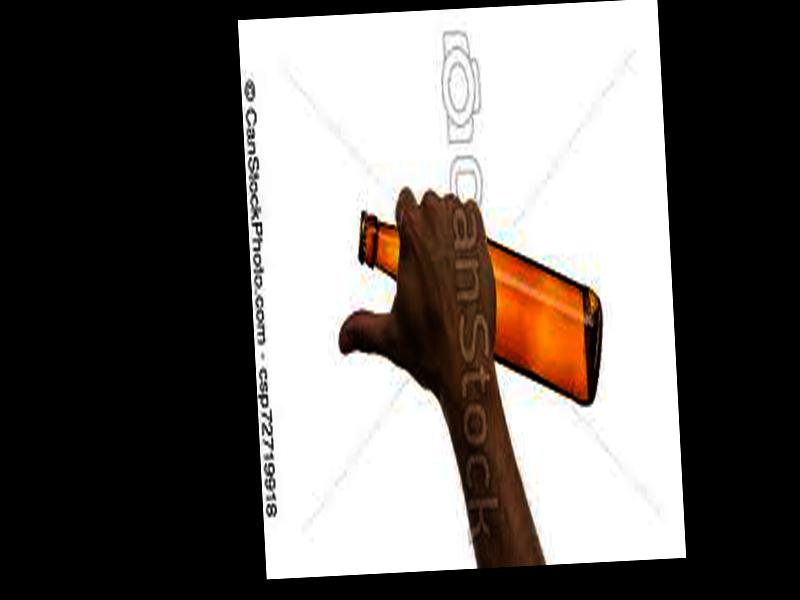Beer: (358, 202, 606, 417)
